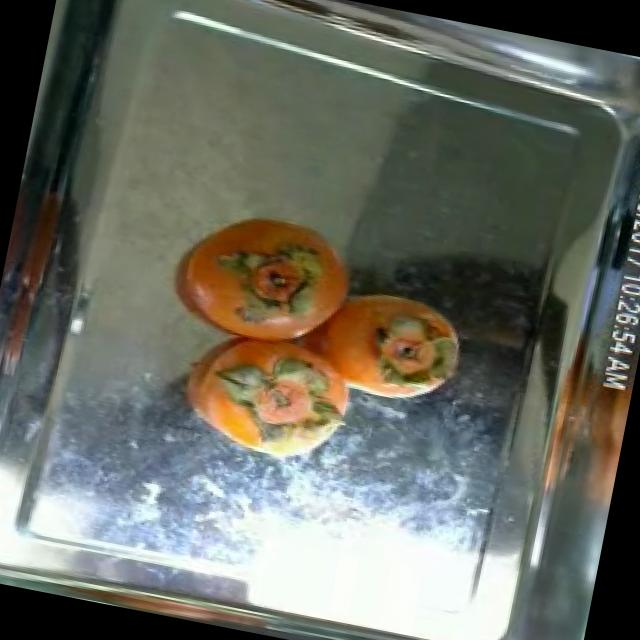Fruit: (295, 261, 487, 415), (236, 349, 370, 454)
